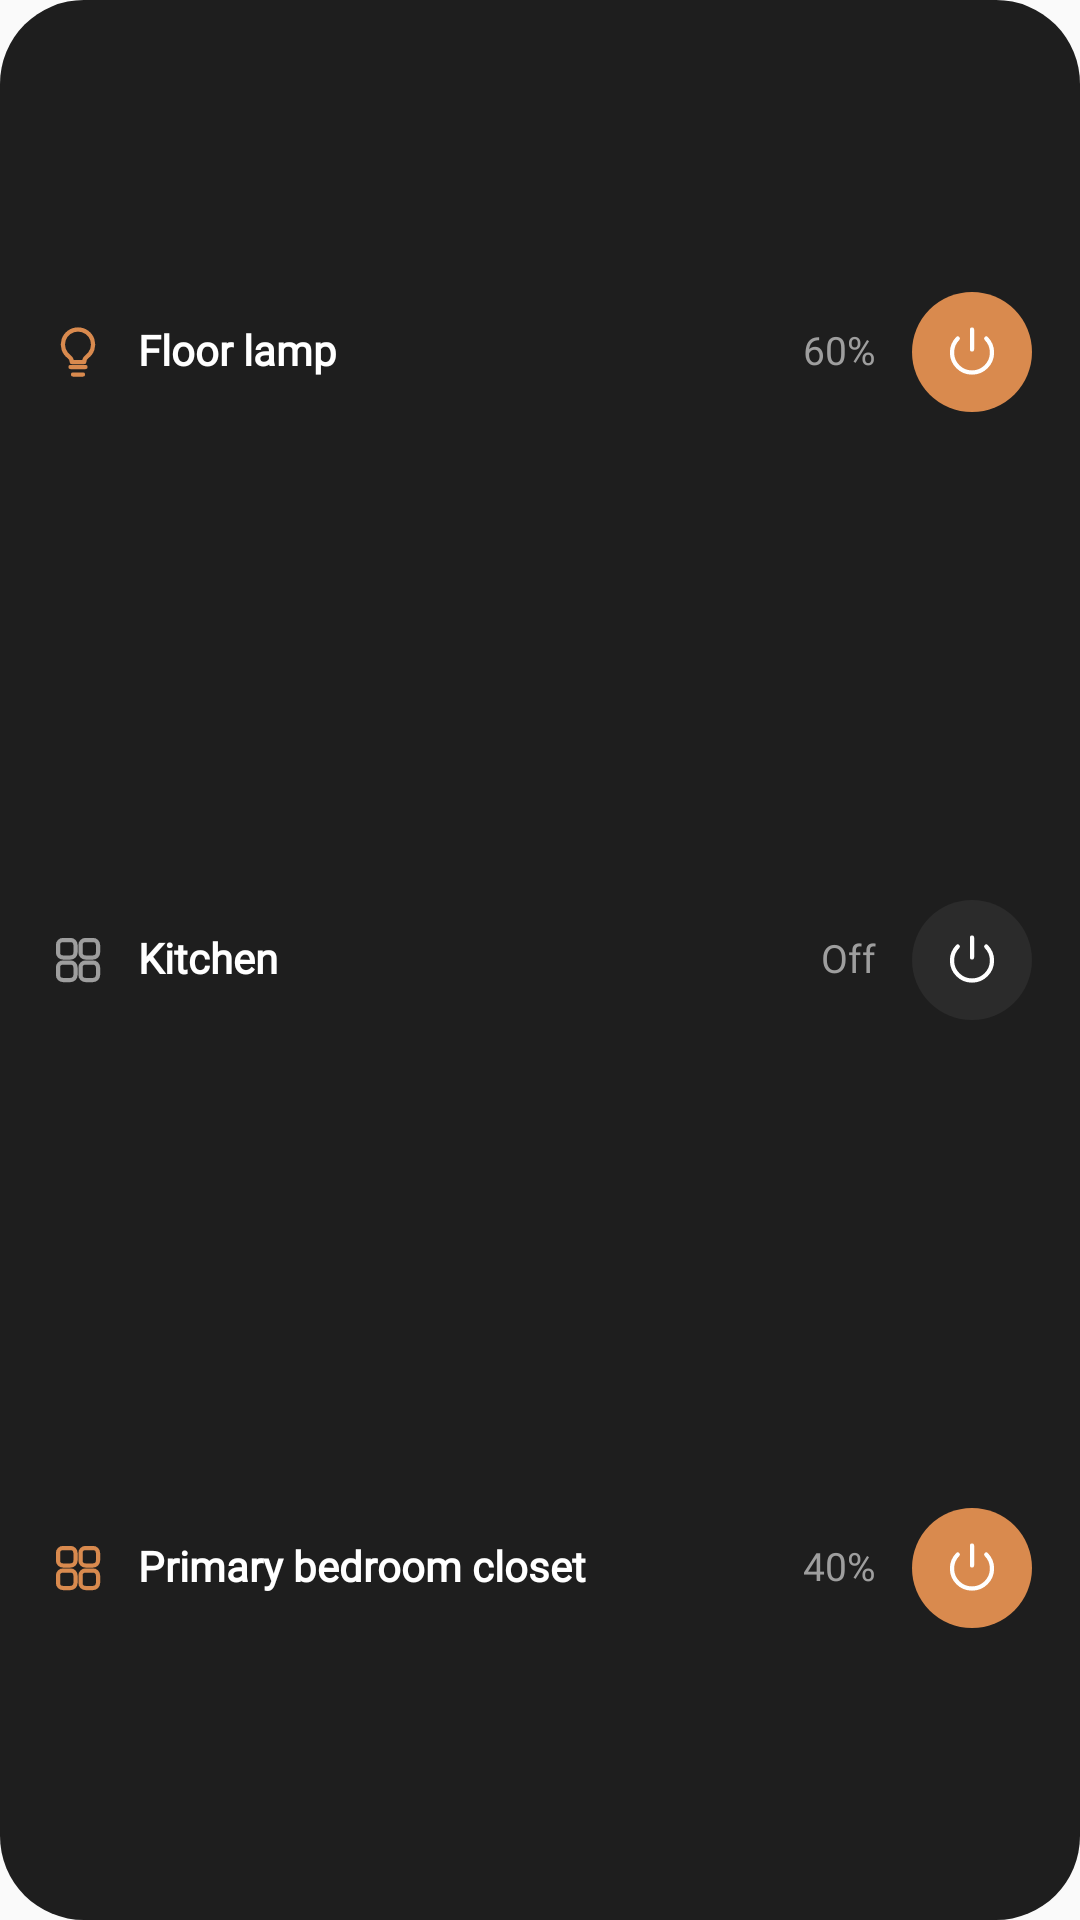

Screen size 1080 x 1920. Icon name, then its center in pixels as point (x, y):
wi bulb: point (78, 352)
wi grid: point (78, 960), point (78, 1568)
